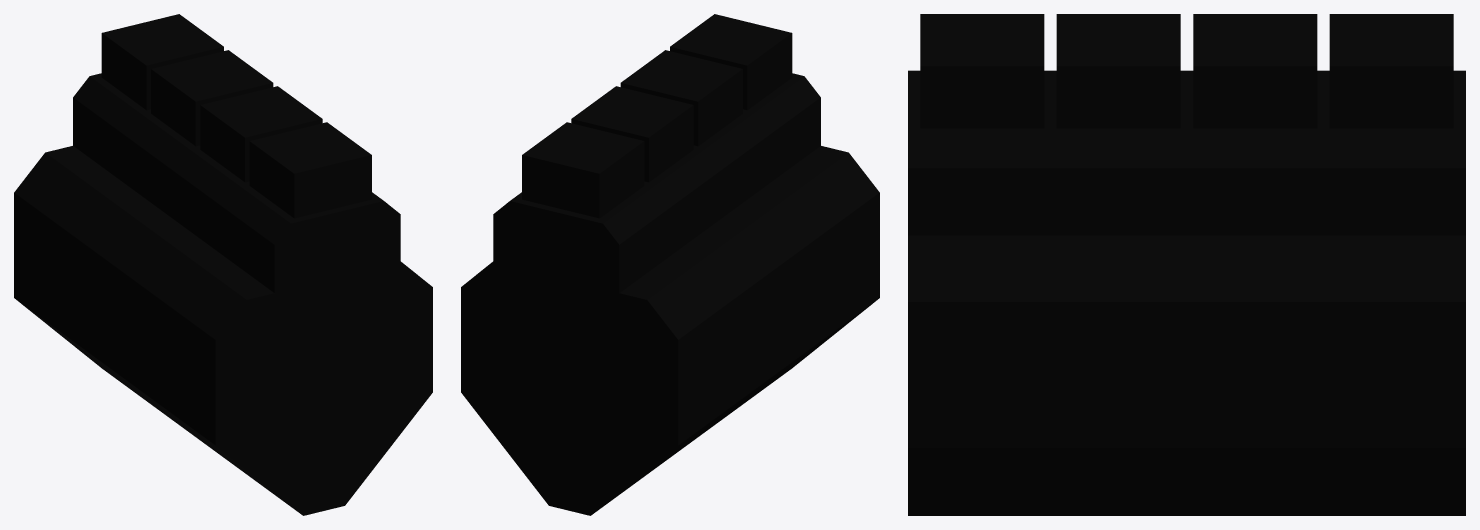
The model's file is v4inlineinsolvo.obj.
The picture shows the model from 3 angles, left to right: view 1: azimuth 30°, elevation 25°; view 2: azimuth 150°, elevation 25°; view 3: azimuth 270°, elevation 25°; orthographic projection. The views are drawn at different scales.
Visible parts, largest first — view 1: cube; view 2: cube; view 3: cube.
Part boxes in pixels (bbox=[...]): cube: bbox=[14, 14, 432, 515]; cube: bbox=[461, 14, 879, 515]; cube: bbox=[908, 14, 1465, 515].
Size of the model in its own units: 0.428 by 0.6403 by 0.6879.
